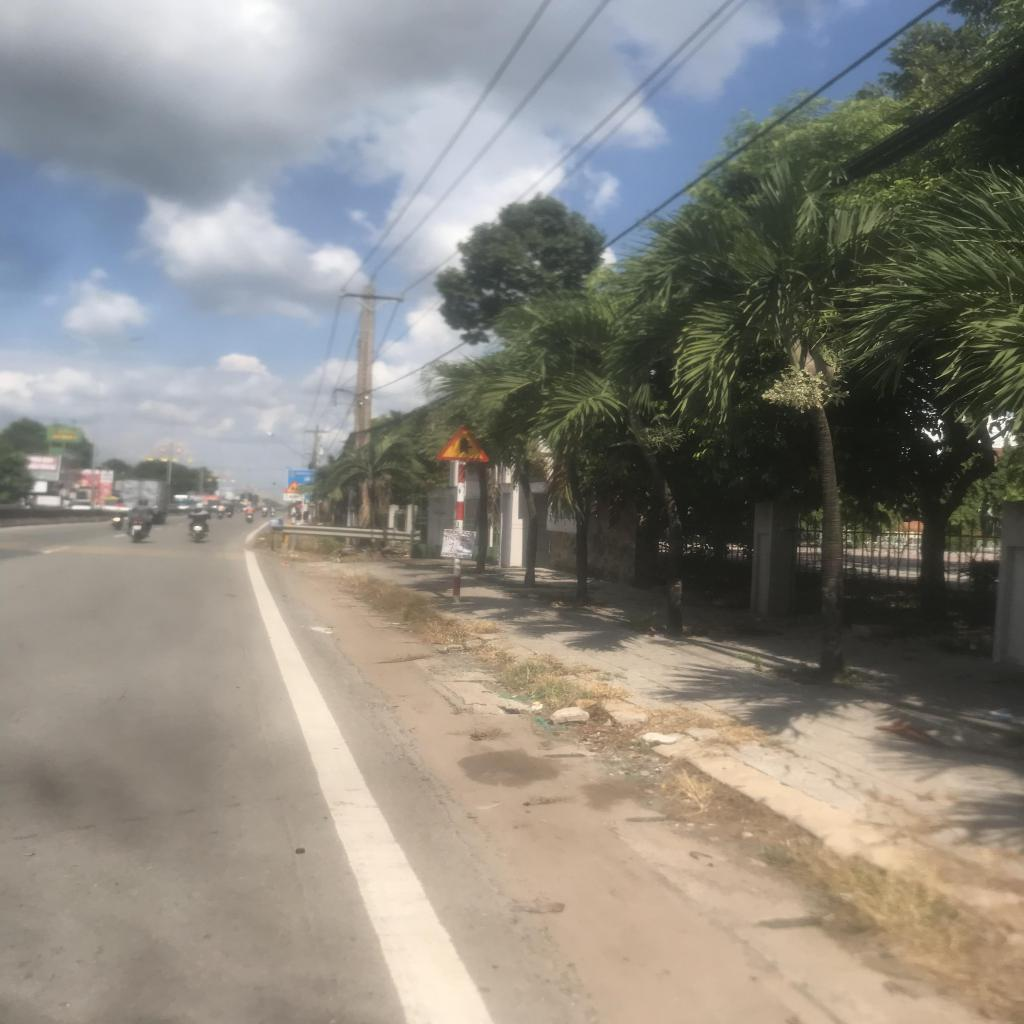giao_nhau_voi_duong_khong_uu_tien: (433, 424, 492, 464)
